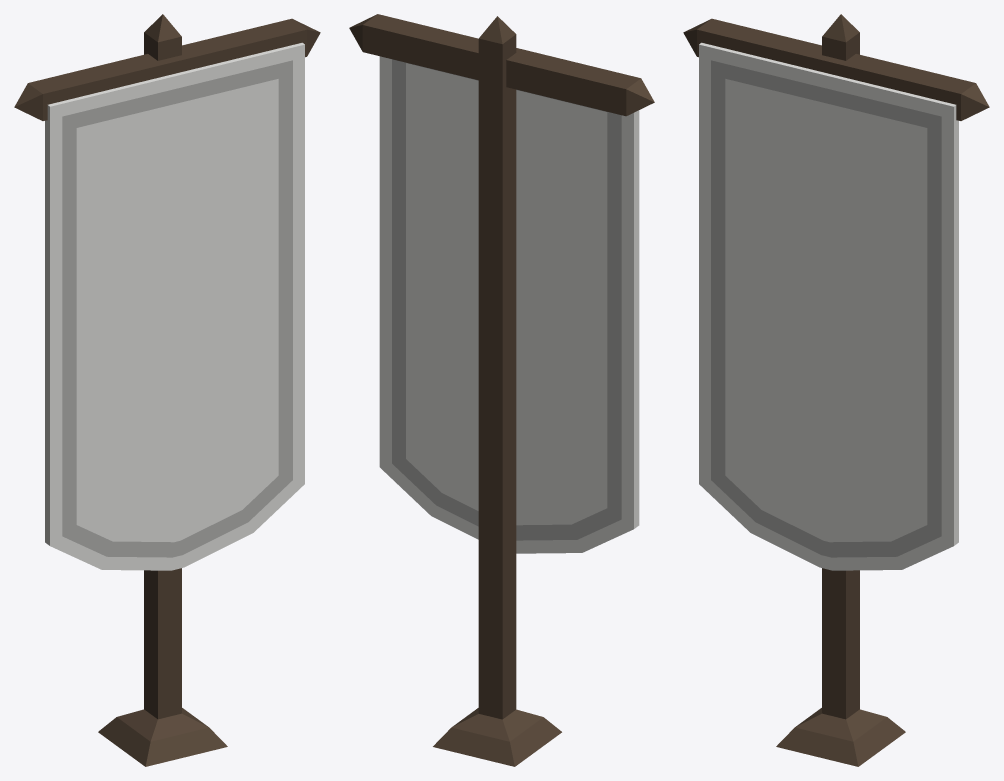
Rendered from Banner_4_White.fbx.
The picture shows the model from 3 angles, left to right: view 1: azimuth 30°, elevation 25°; view 2: azimuth 150°, elevation 25°; view 3: azimuth 330°, elevation 25°; orthographic projection.
Visible parts, largest first — view 1: Banner_4_White_Part_2, Banner_4_White_Part_3, Banner_4_White_Part_1; view 2: Banner_4_White_Part_2, Banner_4_White_Part_1, Banner_4_White_Part_3; view 3: Banner_4_White_Part_2, Banner_4_White_Part_3, Banner_4_White_Part_1.
Boxes of the visible parts, bbox=[...] form: Banner_4_White_Part_2: bbox=[45, 42, 304, 570]; Banner_4_White_Part_3: bbox=[62, 60, 292, 557]; Banner_4_White_Part_1: bbox=[14, 14, 320, 766]; Banner_4_White_Part_2: bbox=[379, 56, 639, 553]; Banner_4_White_Part_1: bbox=[349, 14, 654, 766]; Banner_4_White_Part_3: bbox=[392, 59, 621, 540]; Banner_4_White_Part_2: bbox=[699, 42, 958, 570]; Banner_4_White_Part_3: bbox=[711, 60, 941, 557]; Banner_4_White_Part_1: bbox=[683, 14, 989, 766].
Size of the model in its own units: 120 by 272 by 32.4.
